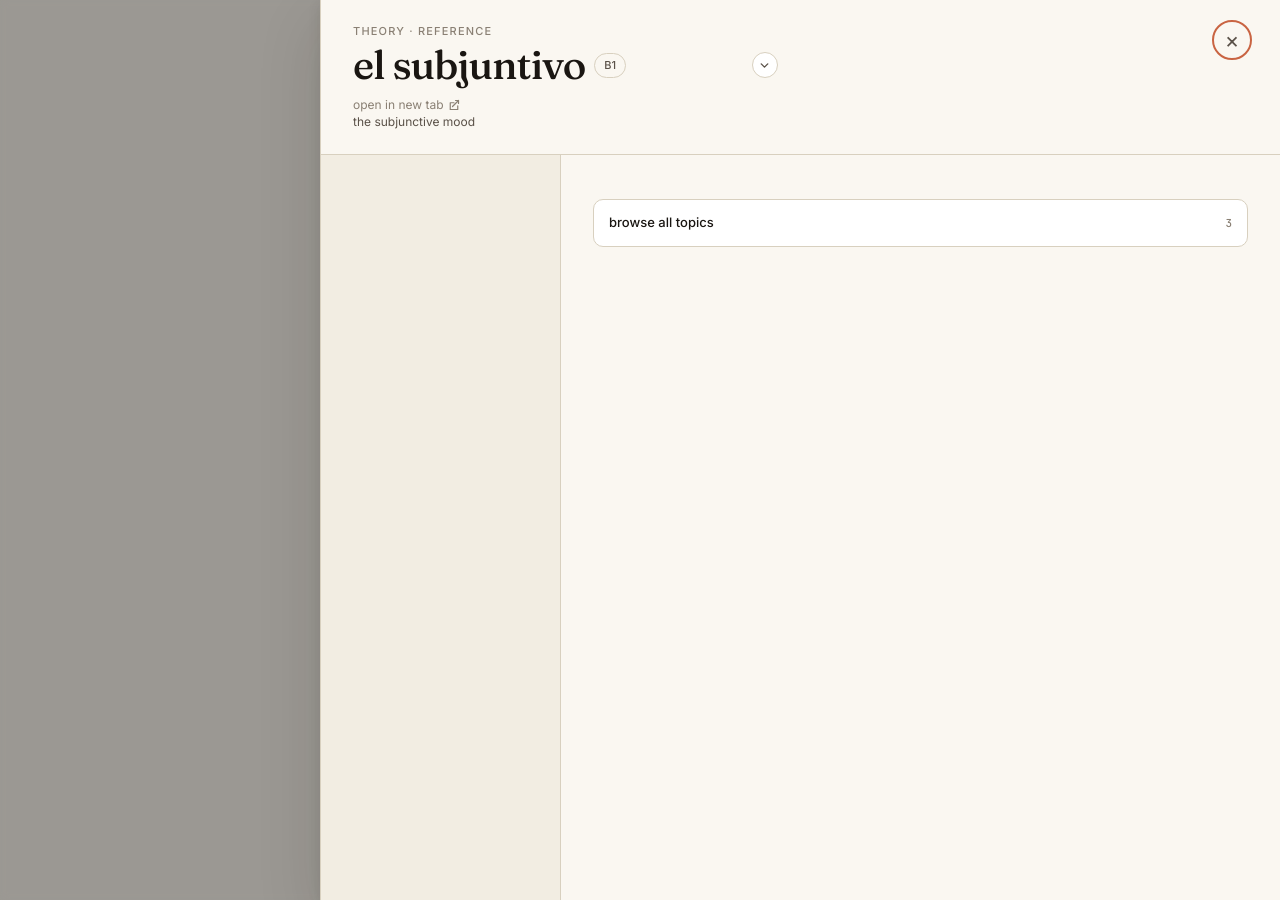
TheoryPanel › mobile (≤760px) › opens the switcher sheet when the title is tapped
Check: the search field labelled "search all topics" is not shown
Click the button "el subjuntivo B1" at (565, 65), box [353,43,778,87]
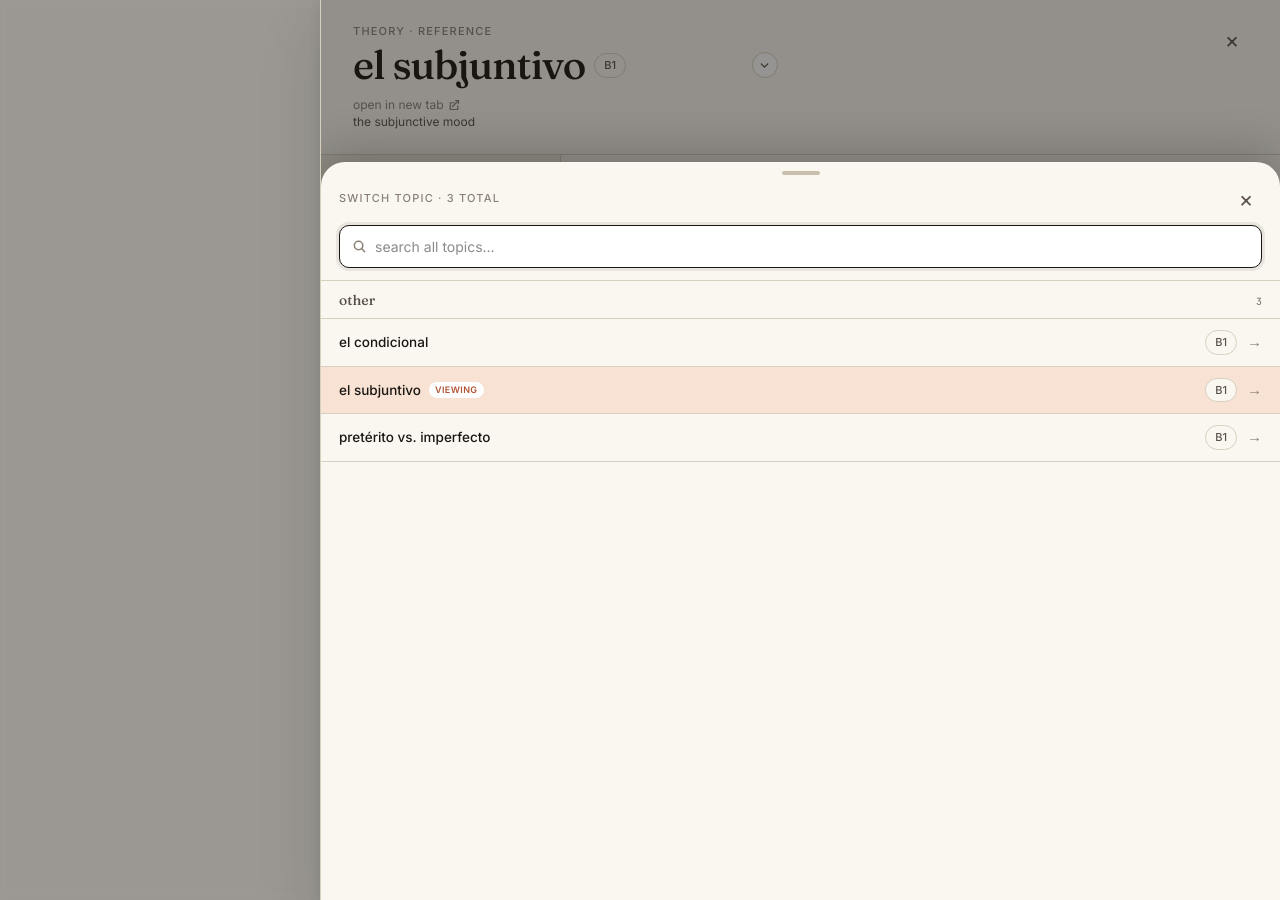
Check: the search field labelled "search all topics…" is shown, box [375,236,1249,257]
